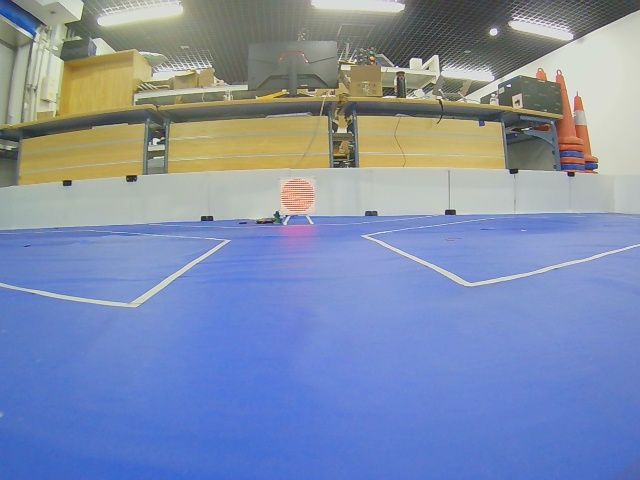red: (281, 179, 315, 214)
